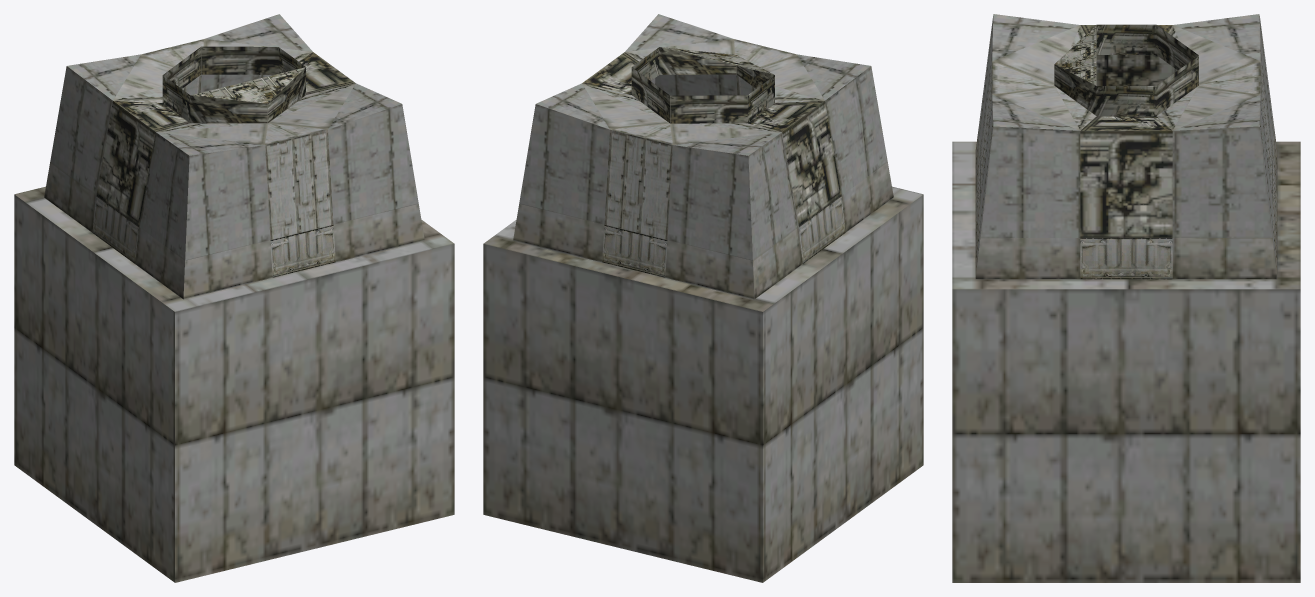
File: ins_all_def_turret_sm_s01_l2.fbx
The picture shows the model from 3 angles, left to right: view 1: azimuth 30°, elevation 25°; view 2: azimuth 150°, elevation 25°; view 3: azimuth 270°, elevation 25°; orthographic projection. The views are drawn at different scales.
Parts seen in each view (by area): view 1: mesh_node; view 2: mesh_node; view 3: mesh_node.
Part boxes in pixels (bbox=[...]): mesh_node: bbox=[14, 14, 454, 582]; mesh_node: bbox=[483, 14, 923, 582]; mesh_node: bbox=[952, 14, 1300, 582].
Size of the model in its own units: 2.16 by 3.09 by 2.15.
